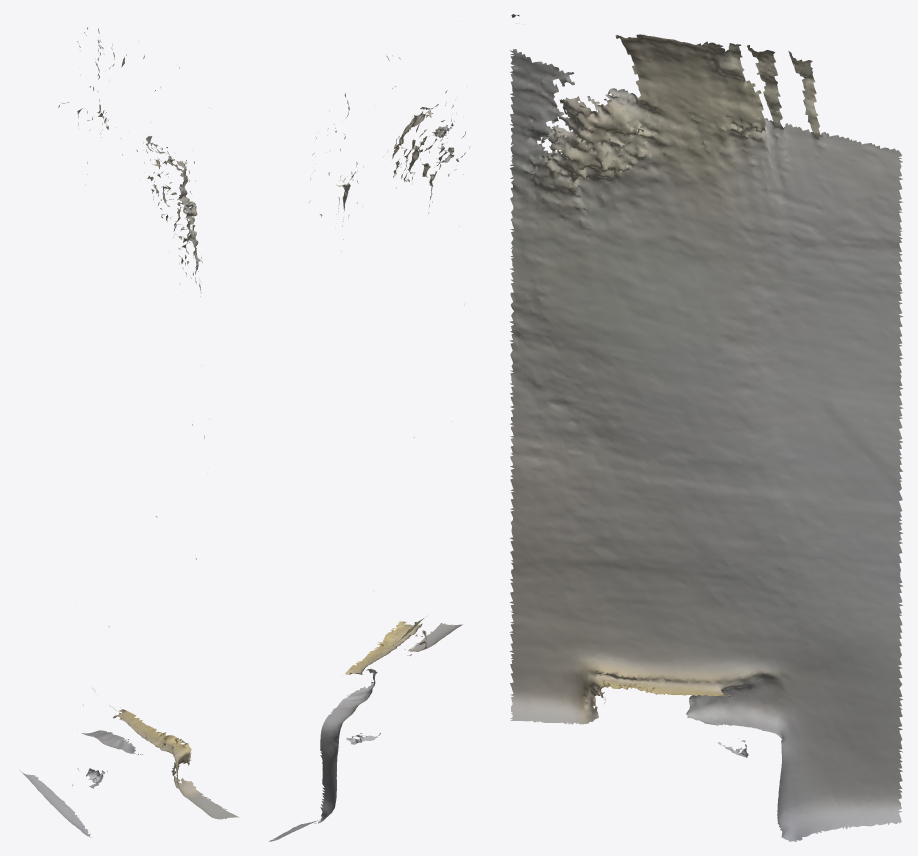
File: apartment-full-67-51c7c7a85b4f.glb
3 views of the same model, side by side, from view 1: azimuth 30°, elevation 25°; view 2: azimuth 150°, elevation 25°; view 3: azimuth 270°, elevation 25° (orthographic). The views are drawn at different scales.
Bounding box in the file's own units: 0.124 × 2.08 × 0.917.
